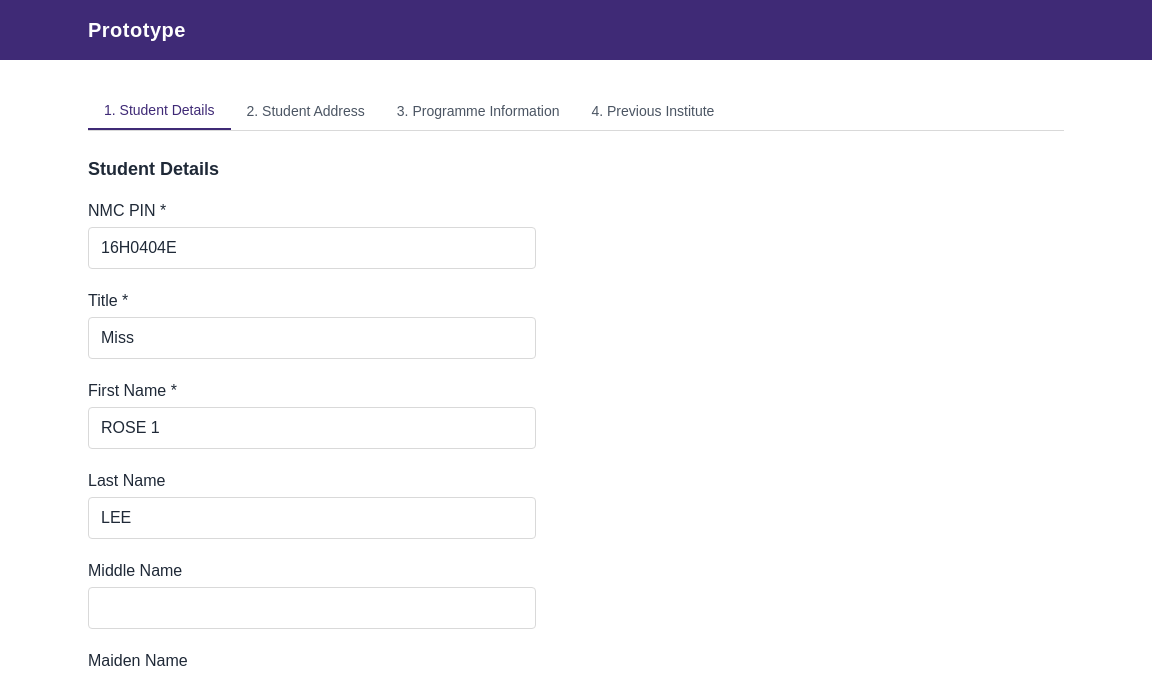
Test: ViewDetailsPage - Programme Information tab › shows the matching error message under the field it belongs to, same as other tabs
Click the button "3. Programme Information": (478, 111) [381, 92, 575, 130]
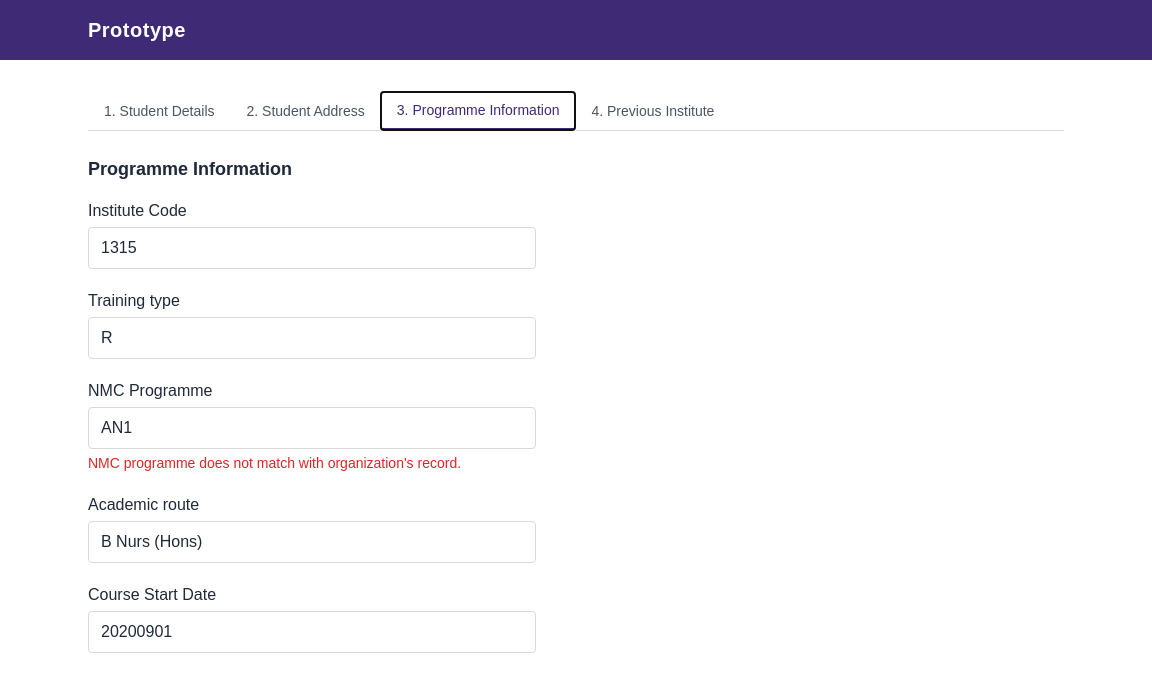
Expected: the text "NMC programme does not match with organization's record." is shown, [88, 455, 461, 471]
